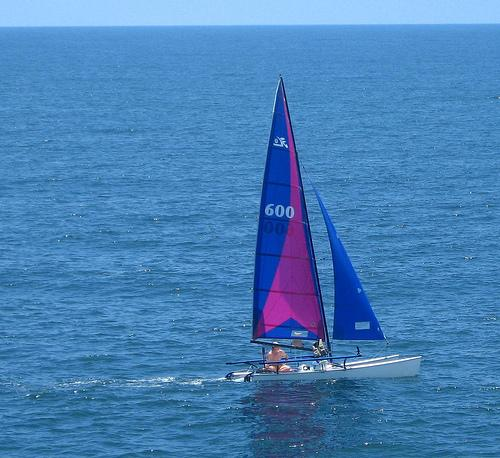Ship: (229, 76, 423, 384)
